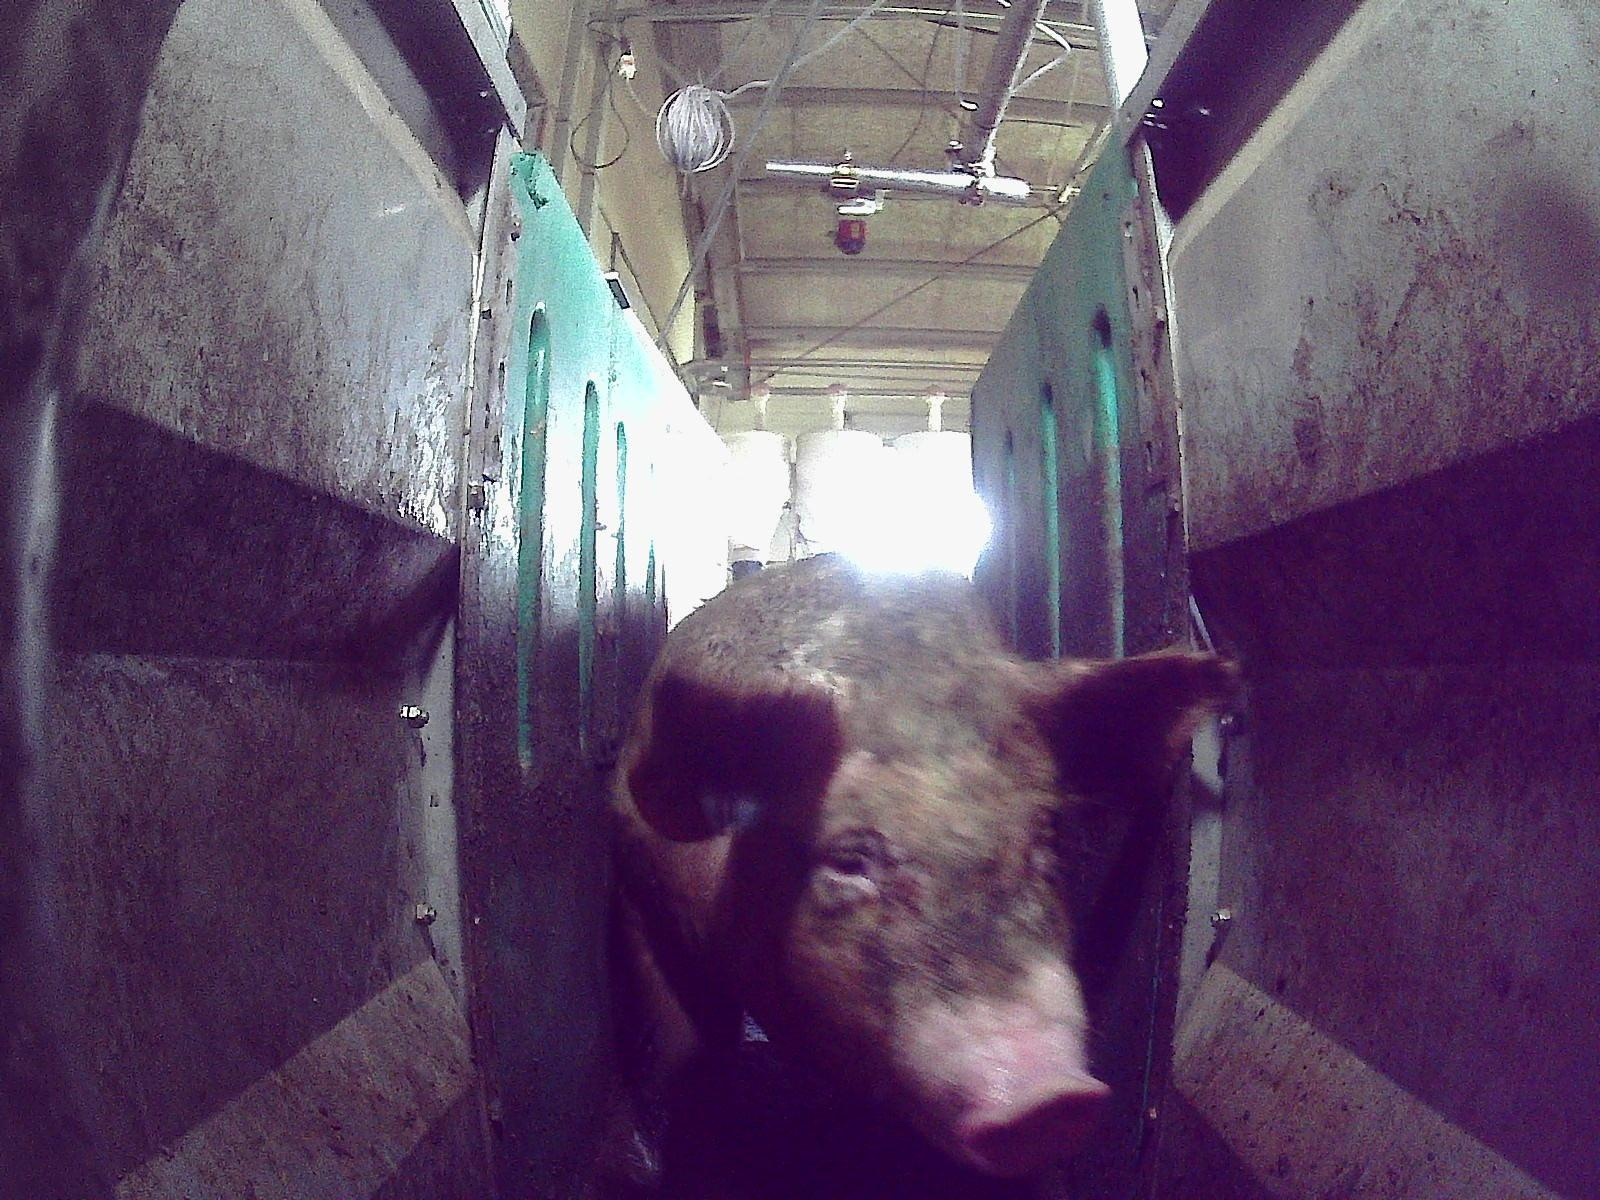Face: (749, 712, 1107, 1167)
